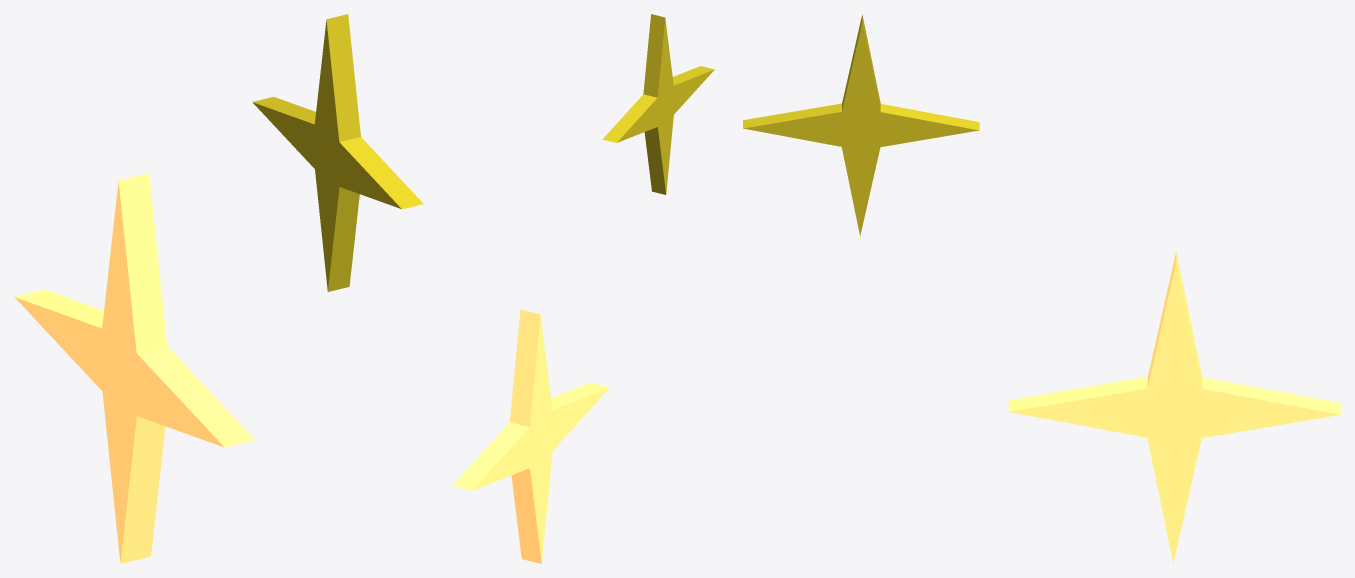
The model's file is Star 3.fbx.
3 renders of one model, left to right at view 1: azimuth 30°, elevation 25°; view 2: azimuth 150°, elevation 25°; view 3: azimuth 270°, elevation 25°, orthographic. The views are drawn at different scales.
Visible parts, largest first — view 1: Plane.001, Plane.002; view 2: Plane.001, Plane.002; view 3: Plane.001, Plane.002.
Part boxes in pixels (box(x1,y1,x2,y2)): Plane.001: box(14, 173, 254, 563); Plane.002: box(252, 14, 423, 291); Plane.001: box(452, 309, 609, 563); Plane.002: box(602, 14, 714, 194); Plane.001: box(1008, 252, 1340, 563); Plane.002: box(743, 15, 979, 236).
Bounding box in the file's own units: 23.66 × 509 × 509.
